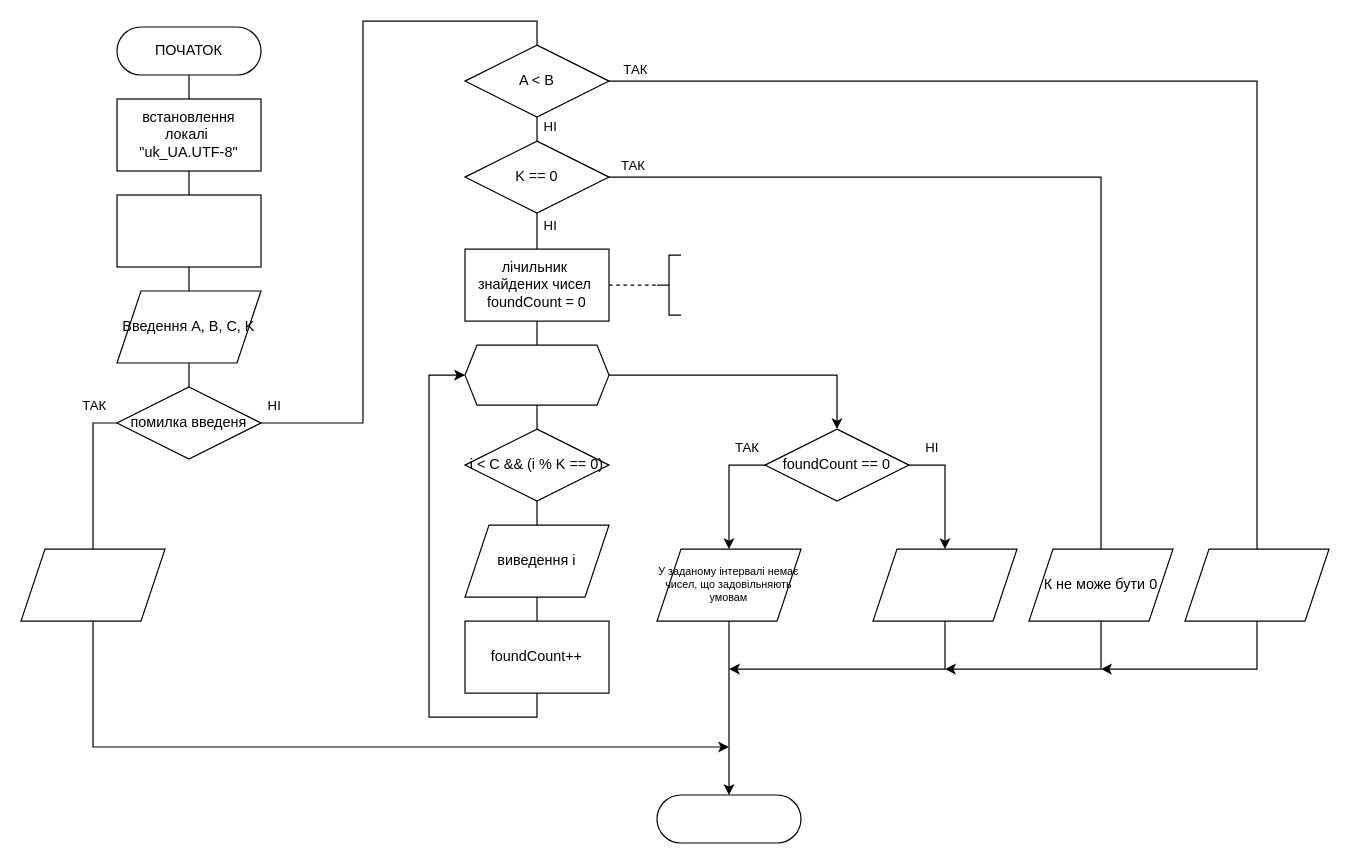
This 1350x864 diagram has some shape labels left out. The box of each missing label's shape, as (x1, y1, x2, y2) in pixels:
A=0; B=0; C=0; K=0: (116, 194, 261, 267)
i = B; i >= A; --i: (464, 344, 609, 405)
КІНЕЦЬ: (656, 794, 801, 843)
лічильник знайдених чисел: (656, 254, 681, 315)
Некоректно заданий діапазон: (1184, 548, 1329, 621)
Повідомлення про помилку: (20, 548, 165, 621)
Усього знайдено чисел: foundCount: (872, 548, 1017, 621)
